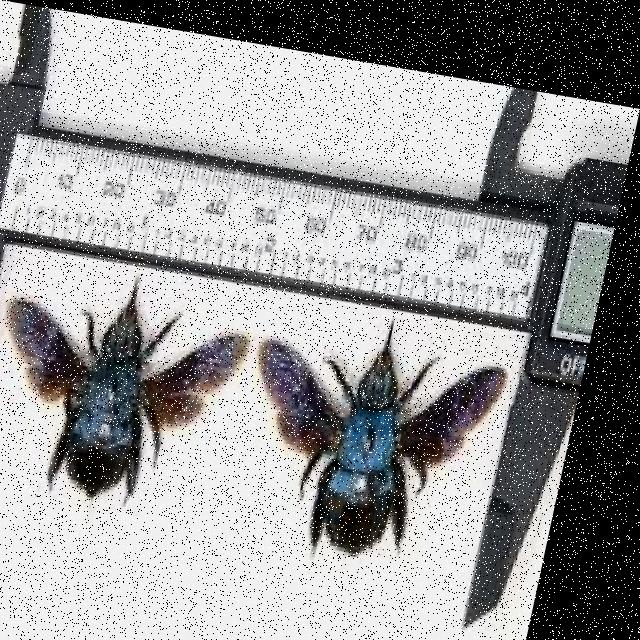Xylocopa: (229, 307, 540, 583), (2, 245, 242, 518)
